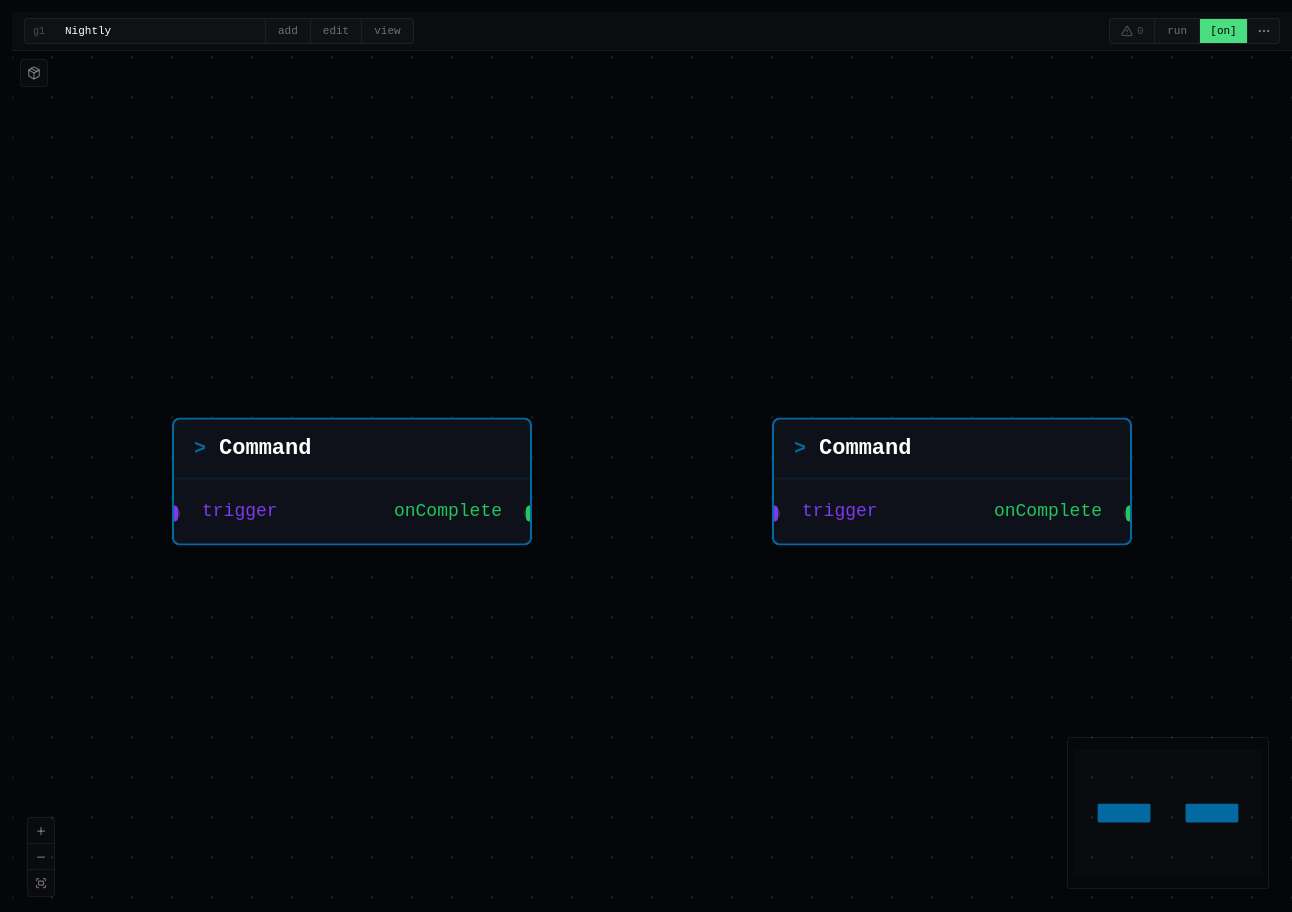
it: right-clicking a block opens the edit menu › acts on the selection from a row and closes
Right-click the element with class "react-flow__node" showing "> Command trigger onComplete" at (352, 482), box [172, 418, 532, 546]
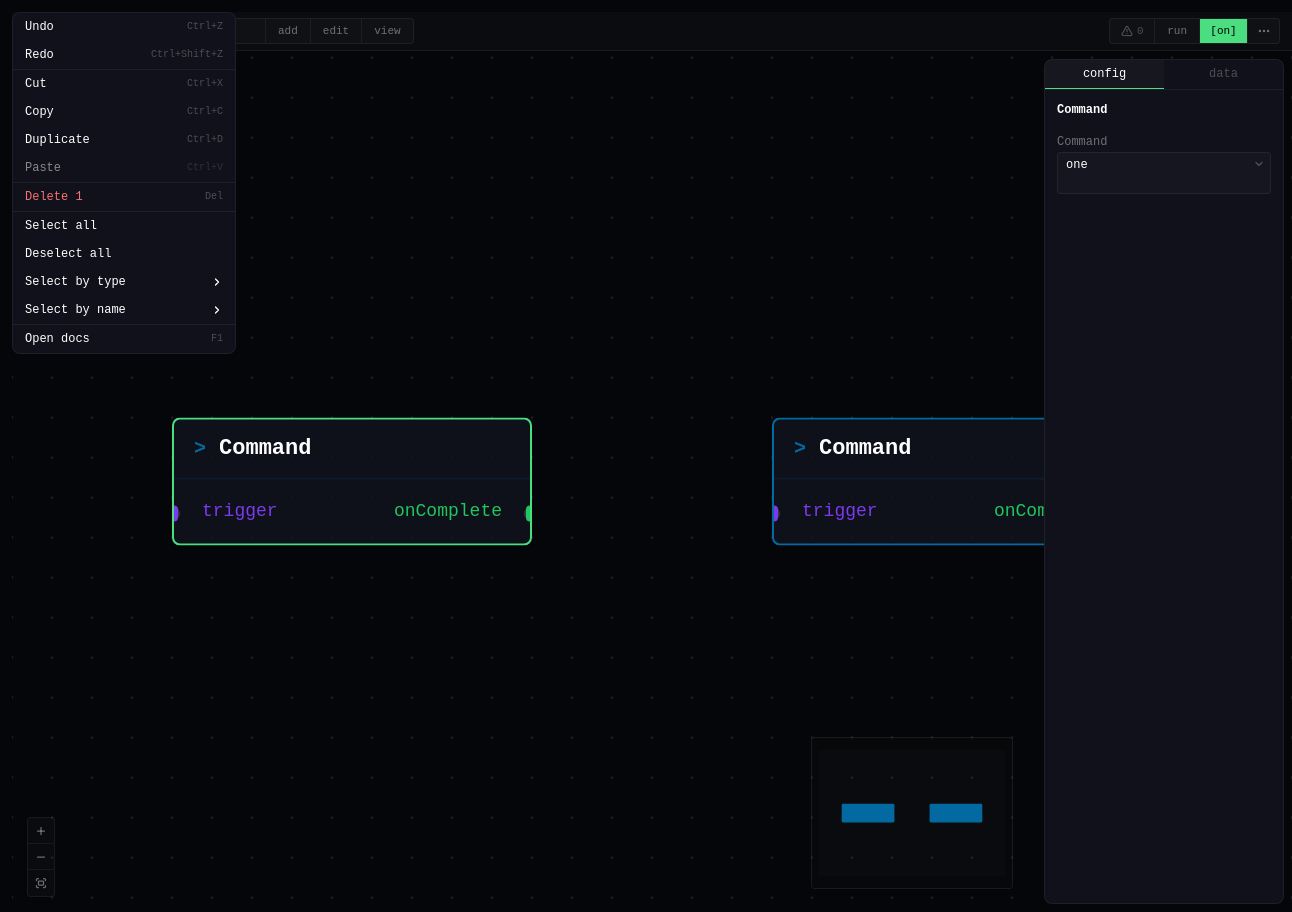
Click the button "Delete 1 Del". click: (124, 197)
box: [13, 183, 235, 211]
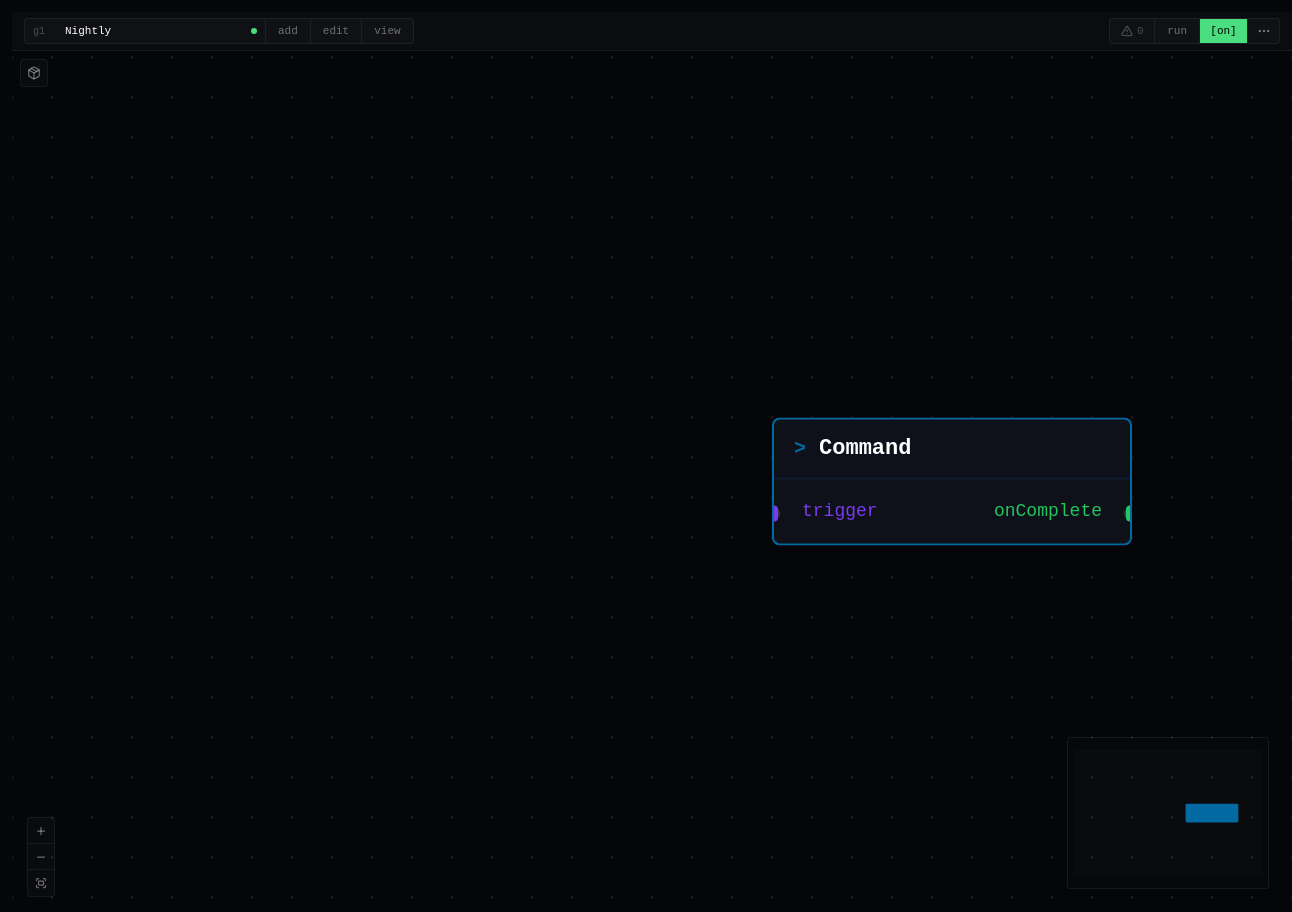
Expected: the number of elements with class "react-flow__node" is 1, [772, 418, 1132, 546]
